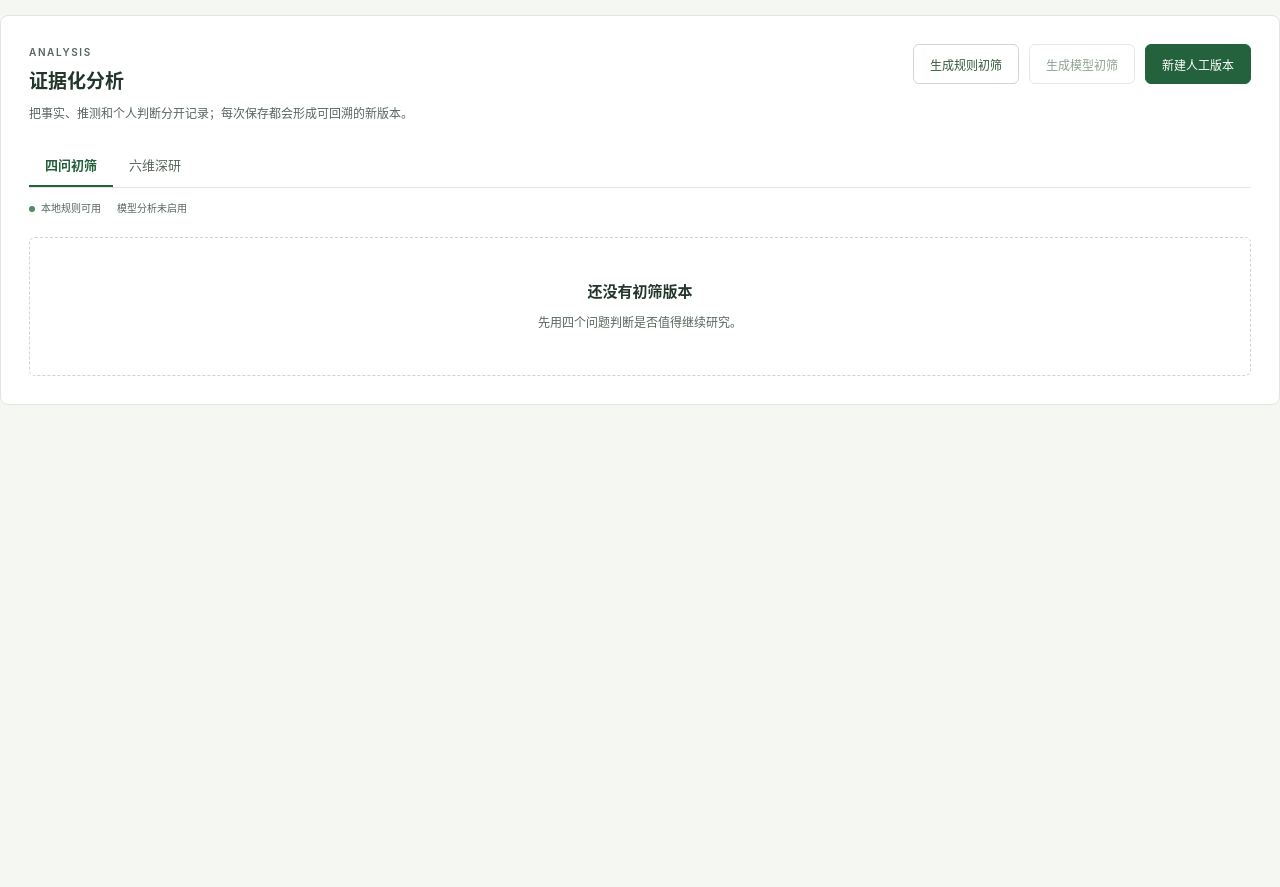
Test: AnalysisPanel › blocks a blank manual version until something is written
Expected: the heading "还没有初筛版本" is shown, left=588, top=282, right=692, bottom=301
Click the button "新建人工版本": click(1198, 64) left=1145, top=44, right=1251, bottom=84
(page scrolled)
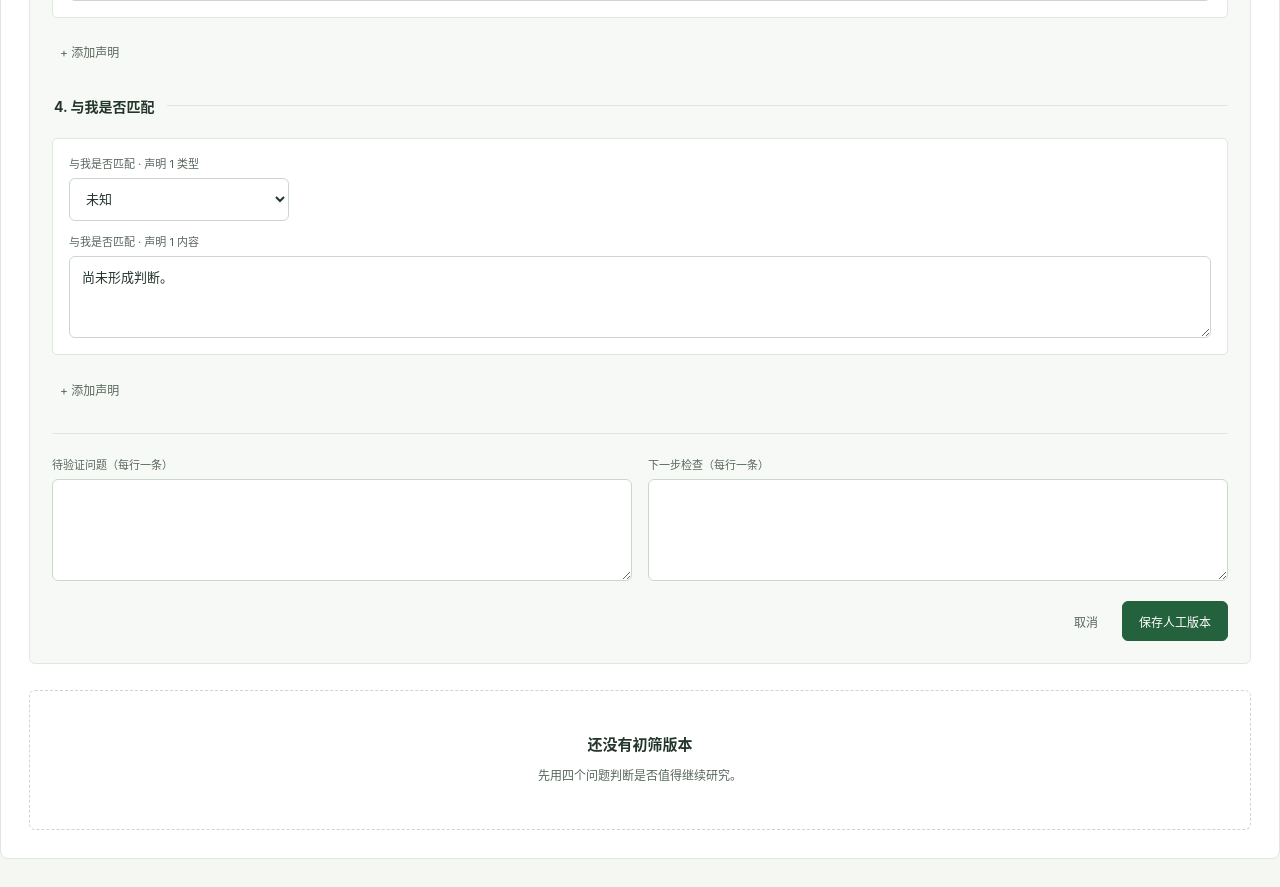
Click the button "保存人工版本": click(1175, 621) left=1122, top=601, right=1228, bottom=641
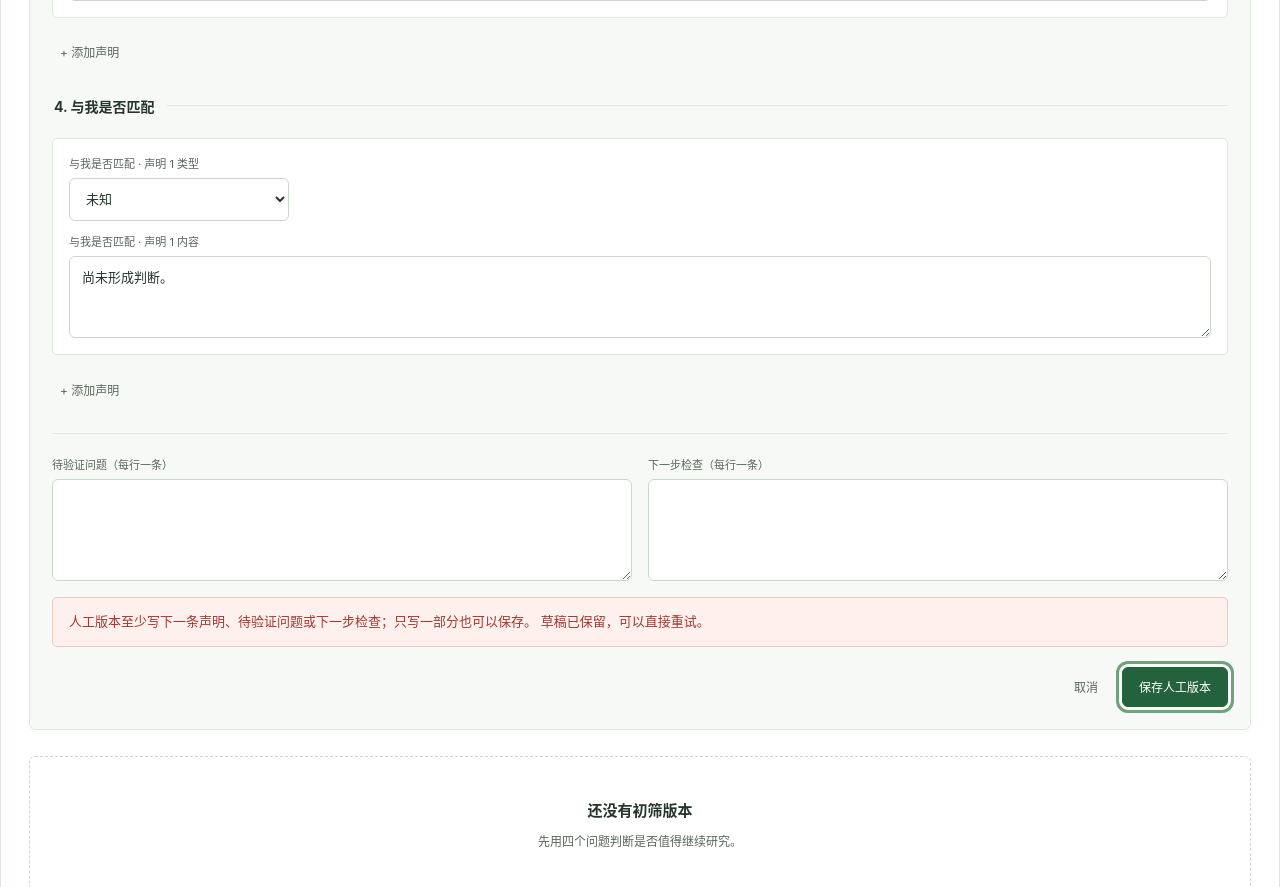
Result: the message shows "至少写下一条声明、待验证问题或下一步检查" at left=69, top=613, right=537, bottom=629
